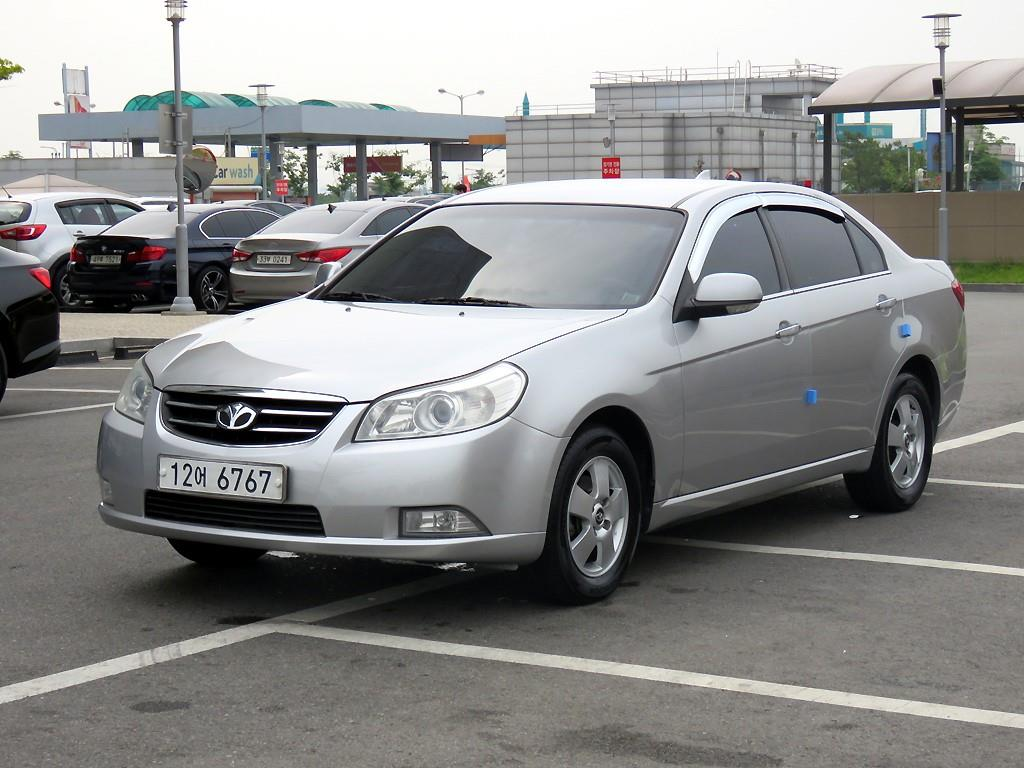plate: (159, 456, 283, 499)
